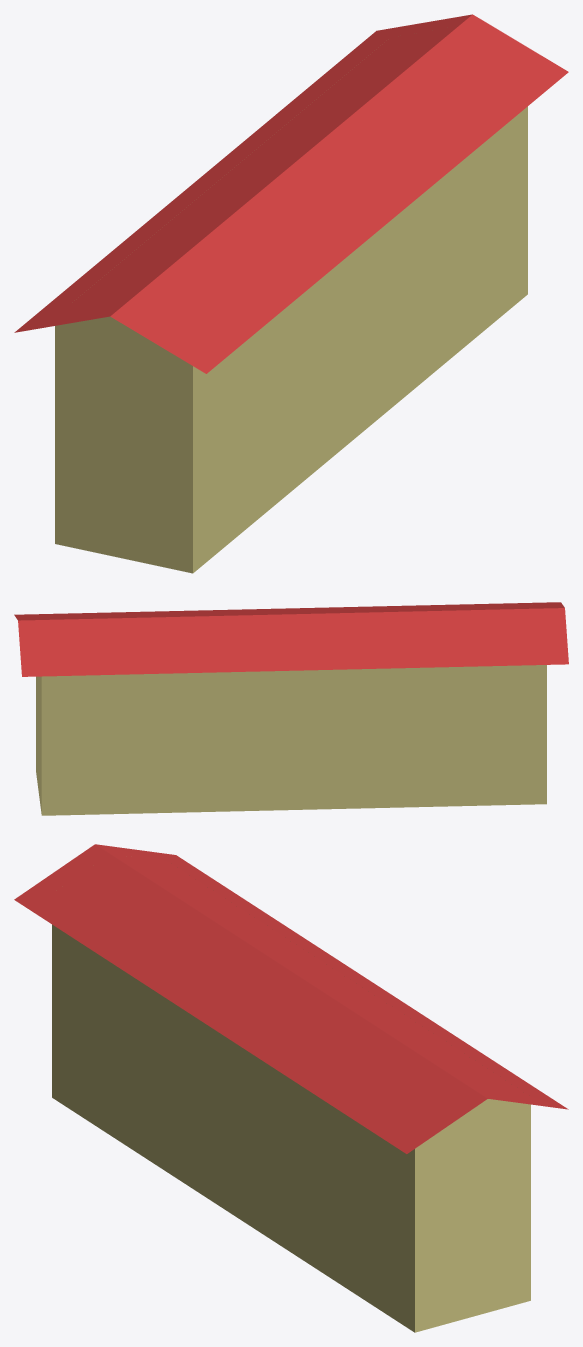
3 renders of one model, top to bottom at view 1: azimuth 30°, elevation 25°; view 2: azimuth 150°, elevation 25°; view 3: azimuth 270°, elevation 25°, orthographic. The views are drawn at different scales.
Bounding box in the file's own units: 19.37 × 15.18 × 6.87.
